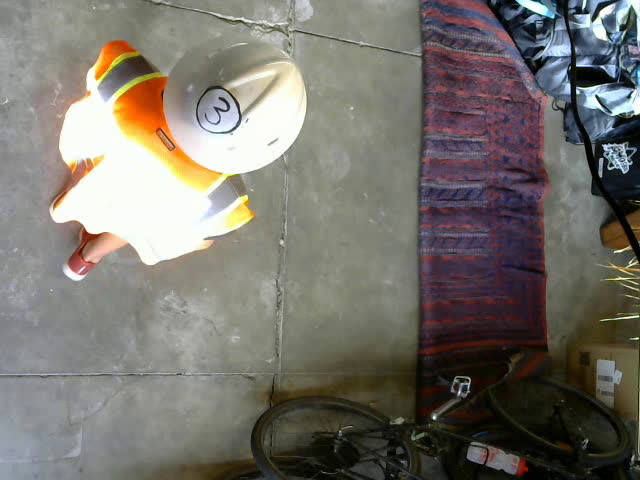three: (196, 86, 242, 136)
